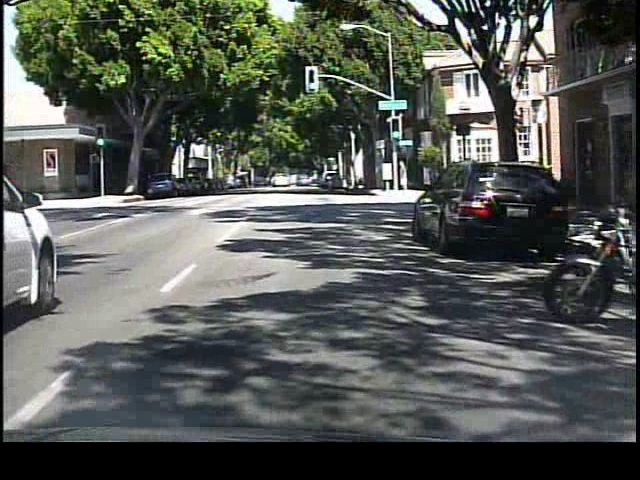person: (395, 157, 413, 194)
